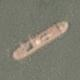ship: (0, 0, 29, 25)
